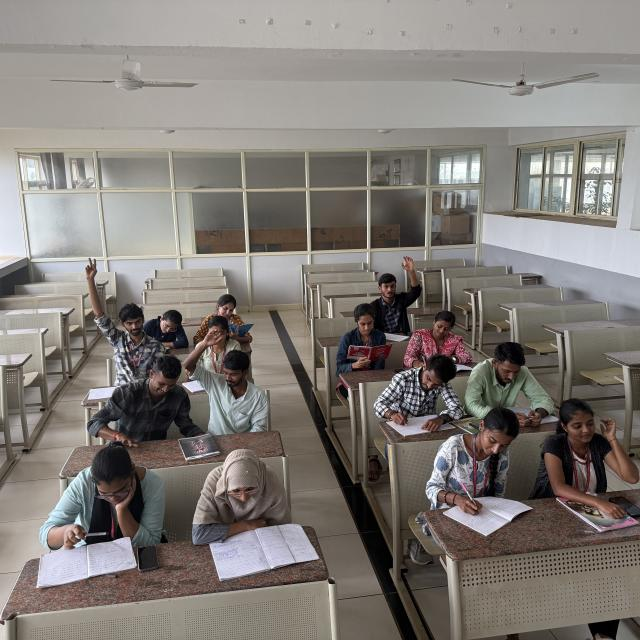Hand Rising: (80, 254, 158, 372), (184, 328, 264, 430), (370, 256, 420, 328)
Reading: (188, 448, 286, 552), (464, 341, 552, 420), (338, 303, 389, 365), (193, 294, 253, 344)
Writing: (35, 440, 139, 576), (430, 414, 520, 519), (374, 356, 459, 433), (403, 310, 470, 370), (142, 304, 191, 351)
